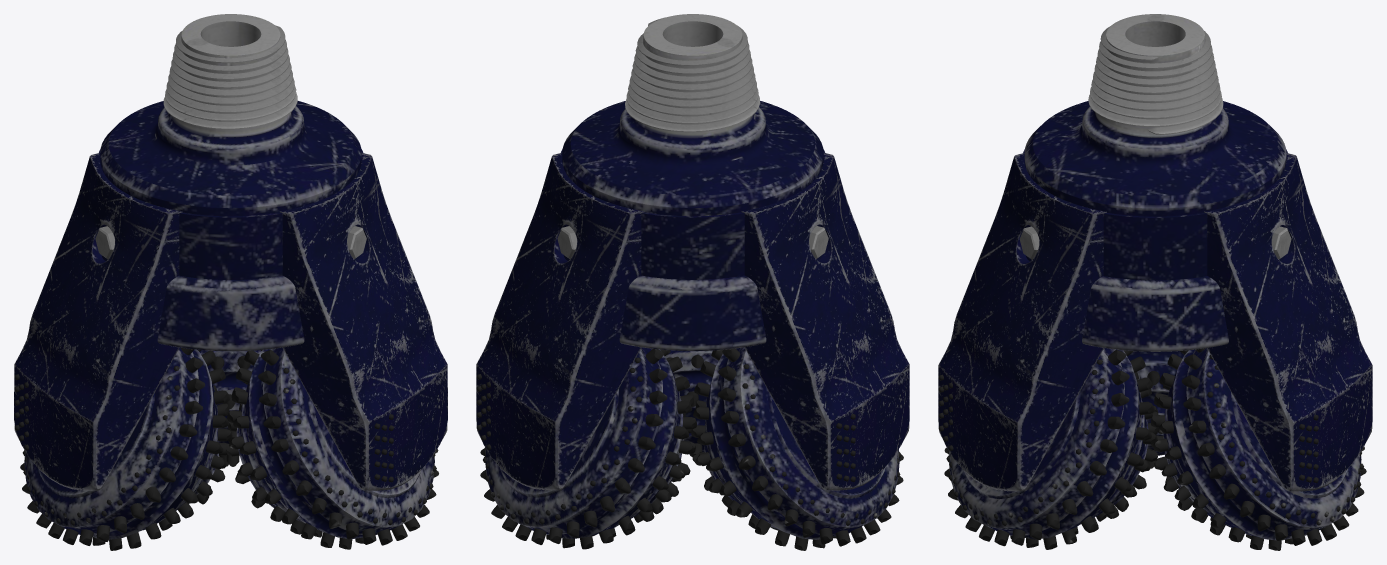
Rendered from TaladroPerf.fbx.
The picture shows the model from 3 angles, left to right: view 1: azimuth 30°, elevation 25°; view 2: azimuth 150°, elevation 25°; view 3: azimuth 270°, elevation 25°; orthographic projection.
Visible parts, largest first — view 1: defaultMaterial.003, defaultMaterial.004, defaultMaterial.002, defaultMaterial.001; view 2: defaultMaterial.003, defaultMaterial.001, defaultMaterial.002, defaultMaterial.004; view 3: defaultMaterial.003, defaultMaterial.001, defaultMaterial.004, defaultMaterial.002.
Part boxes in pixels (x1,y1,x2,y2): defaultMaterial.003: (14, 14, 447, 490); defaultMaterial.004: (226, 347, 438, 549); defaultMaterial.002: (20, 347, 232, 550); defaultMaterial.001: (199, 350, 261, 466); defaultMaterial.003: (476, 14, 909, 490); defaultMaterial.001: (480, 347, 696, 549); defaultMaterial.002: (691, 347, 903, 550); defaultMaterial.004: (665, 350, 718, 465); defaultMaterial.003: (938, 14, 1372, 491); defaultMaterial.001: (1151, 348, 1366, 550); defaultMaterial.004: (944, 348, 1158, 549); defaultMaterial.002: (1127, 351, 1184, 468).
Size of the model in its own units: 45.46 by 59.29 by 49.15.
Materials: 1 (1 with a texture image).
